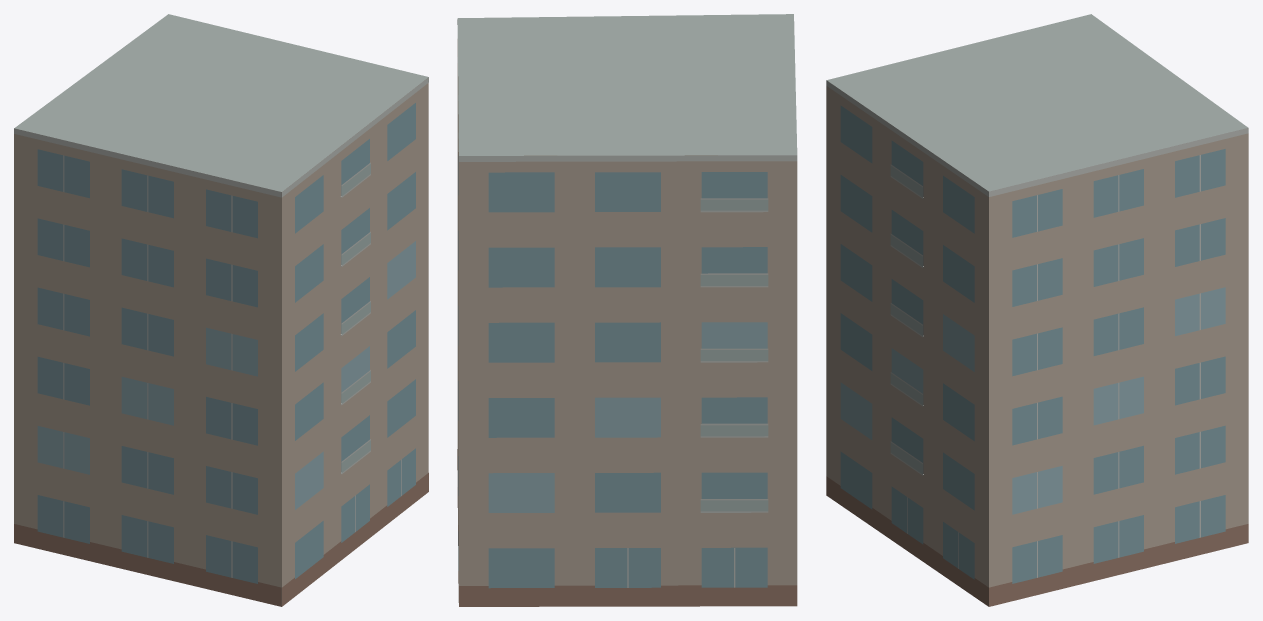
The model's file is survey-upis-32722792.glb.
The picture shows the model from 3 angles, left to right: view 1: azimuth 30°, elevation 25°; view 2: azimuth 150°, elevation 25°; view 3: azimuth 270°, elevation 25°; orthographic projection. The views are drawn at different scales.
Visible parts, largest first — view 1: survey-upis-32722792.tmp; view 2: survey-upis-32722792.tmp; view 3: survey-upis-32722792.tmp.
Boxes of the visible parts, left/top/right/bottom form: survey-upis-32722792.tmp: left=14, top=14, right=428, bottom=606; survey-upis-32722792.tmp: left=457, top=14, right=797, bottom=606; survey-upis-32722792.tmp: left=826, top=14, right=1248, bottom=606.
Bounding box in the file's own units: 16.8 × 18.3 × 16.87.
